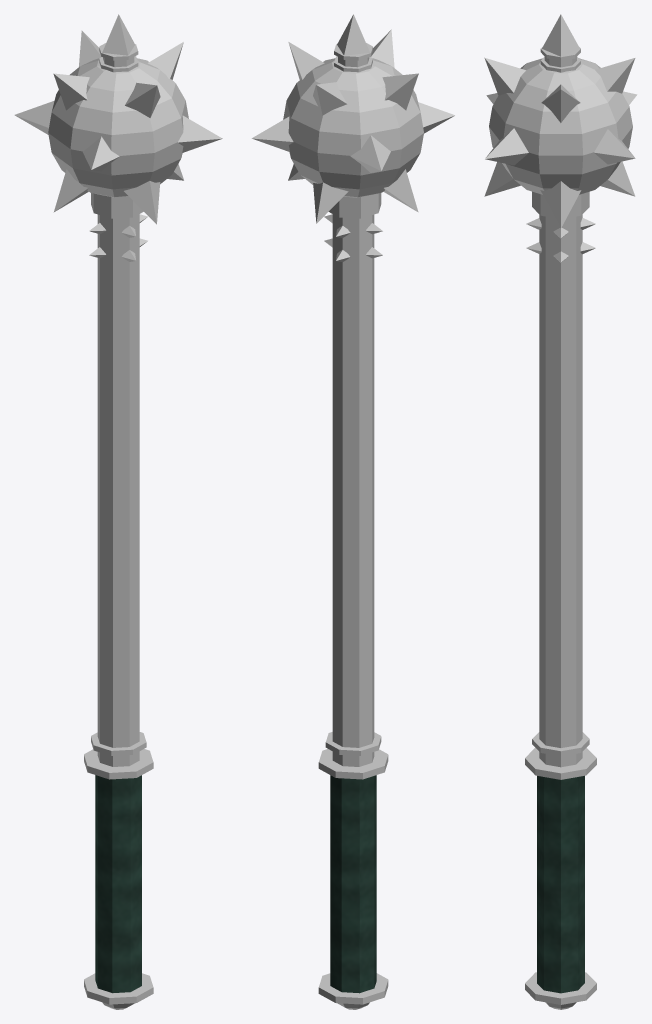
File: morningstar.fbx
3 views of the same model, side by side, from view 1: azimuth 30°, elevation 25°; view 2: azimuth 150°, elevation 25°; view 3: azimuth 270°, elevation 25° (orthographic).
Visible parts, largest first — view 1: Cylinder.004; view 2: Cylinder.004; view 3: Cylinder.004.
Part boxes in pixels (bbox=[...]): Cylinder.004: bbox=[14, 14, 222, 1009]; Cylinder.004: bbox=[251, 14, 454, 1009]; Cylinder.004: bbox=[484, 14, 637, 1009].
Size of the model in its own units: 636 by 4564 by 638.
